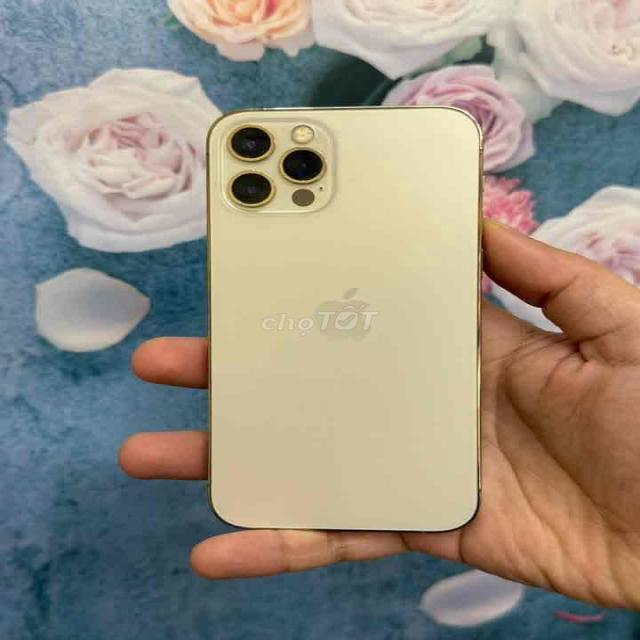gen_12_13: (199, 104, 499, 540)
